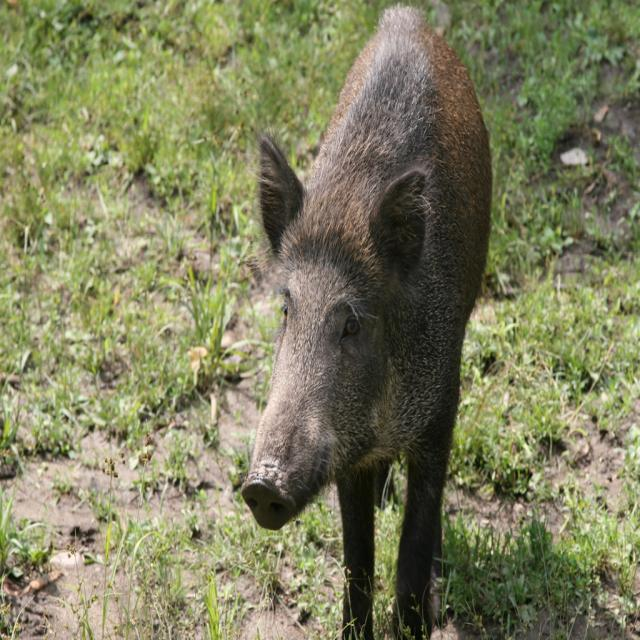Pig: (238, 0, 493, 639)
